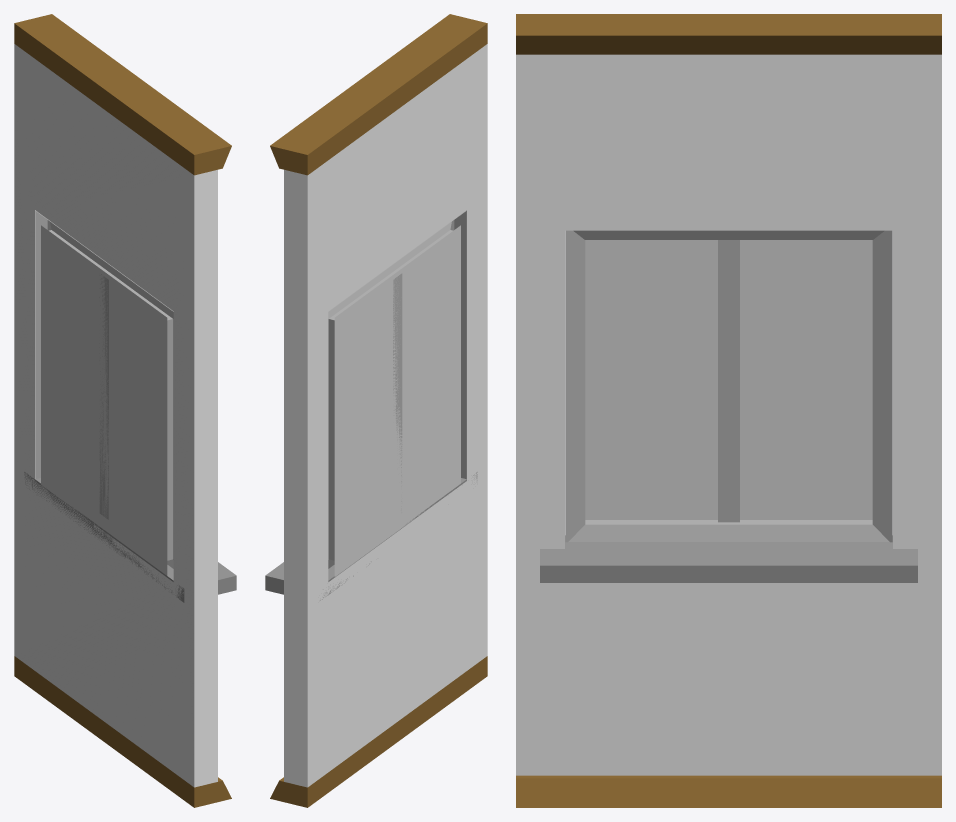
File: Pencere.fbx
The picture shows the model from 3 angles, left to right: view 1: azimuth 30°, elevation 25°; view 2: azimuth 150°, elevation 25°; view 3: azimuth 270°, elevation 25°; orthographic projection. The views are drawn at different scales.
Visible parts, largest first — view 1: Cube.003; view 2: Cube.003; view 3: Cube.003.
Part boxes in pixels (x1,y1,x2,y2): Cube.003: [14, 14, 236, 807]; Cube.003: [265, 14, 487, 807]; Cube.003: [516, 14, 941, 807].
Size of the model in its own units: 33.69 by 400 by 200.
